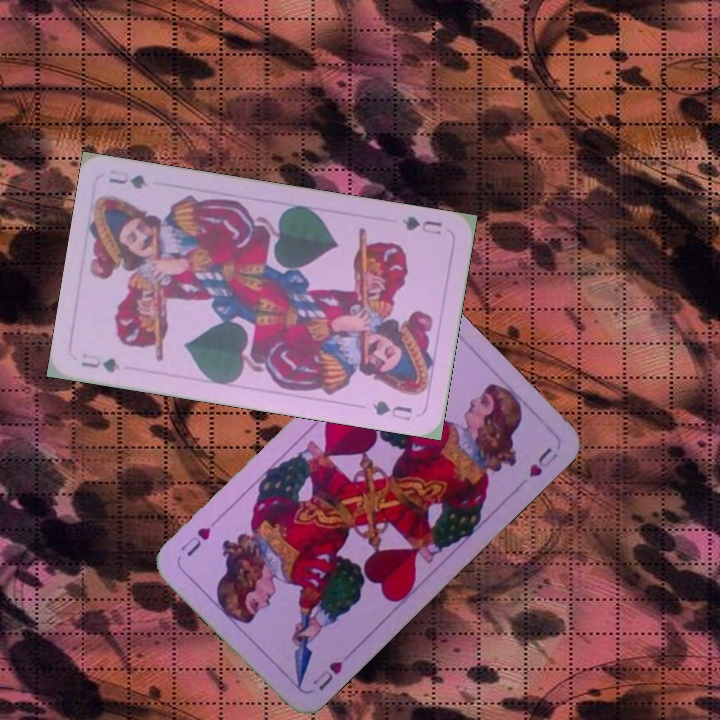GU: (77, 349, 123, 376), (398, 212, 445, 237)
HU: (308, 656, 346, 694)
